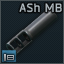ASh-12 12.7x55 muzzle brake: (0, 0, 64, 64)
